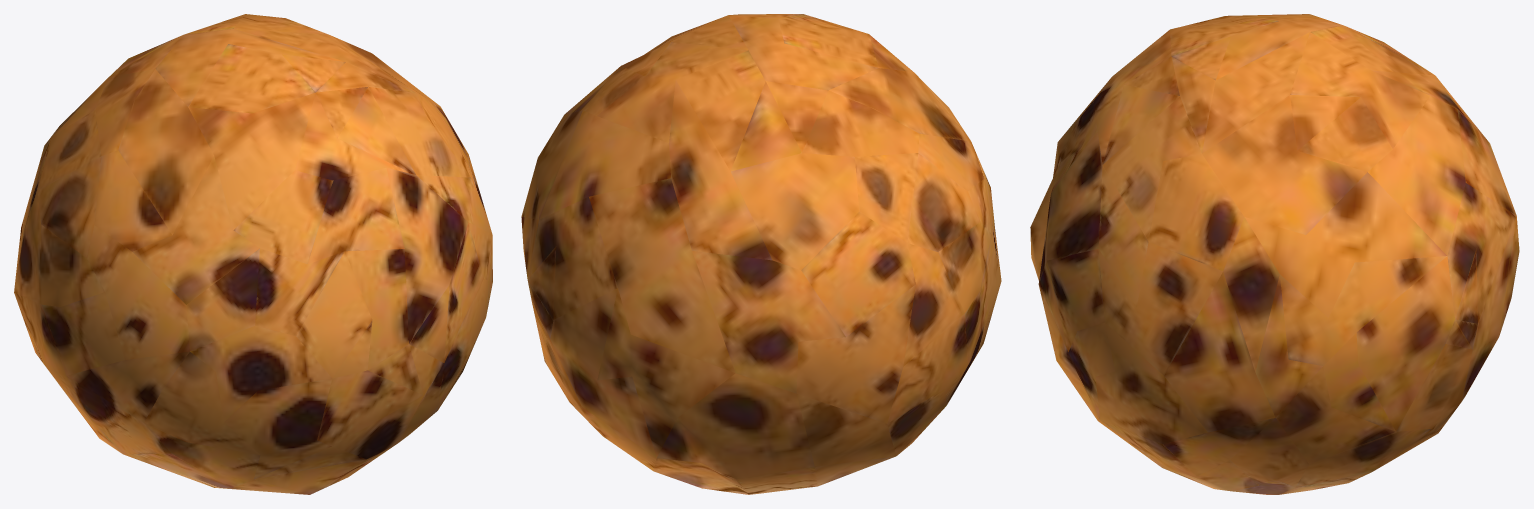
File: crumb.glb
3 views of the same model, side by side, from view 1: azimuth 30°, elevation 25°; view 2: azimuth 150°, elevation 25°; view 3: azimuth 270°, elevation 25° (orthographic).
Parts seen in each view (by area): view 1: crumb; view 2: crumb; view 3: crumb.
Boxes of the visible parts, bbox=[...] form: crumb: bbox=[14, 14, 492, 494]; crumb: bbox=[521, 14, 1001, 494]; crumb: bbox=[1030, 14, 1519, 494].
Bounding box in the file's own units: 0.45 × 0.4362 × 0.4495.
1 material, 1 textured.
